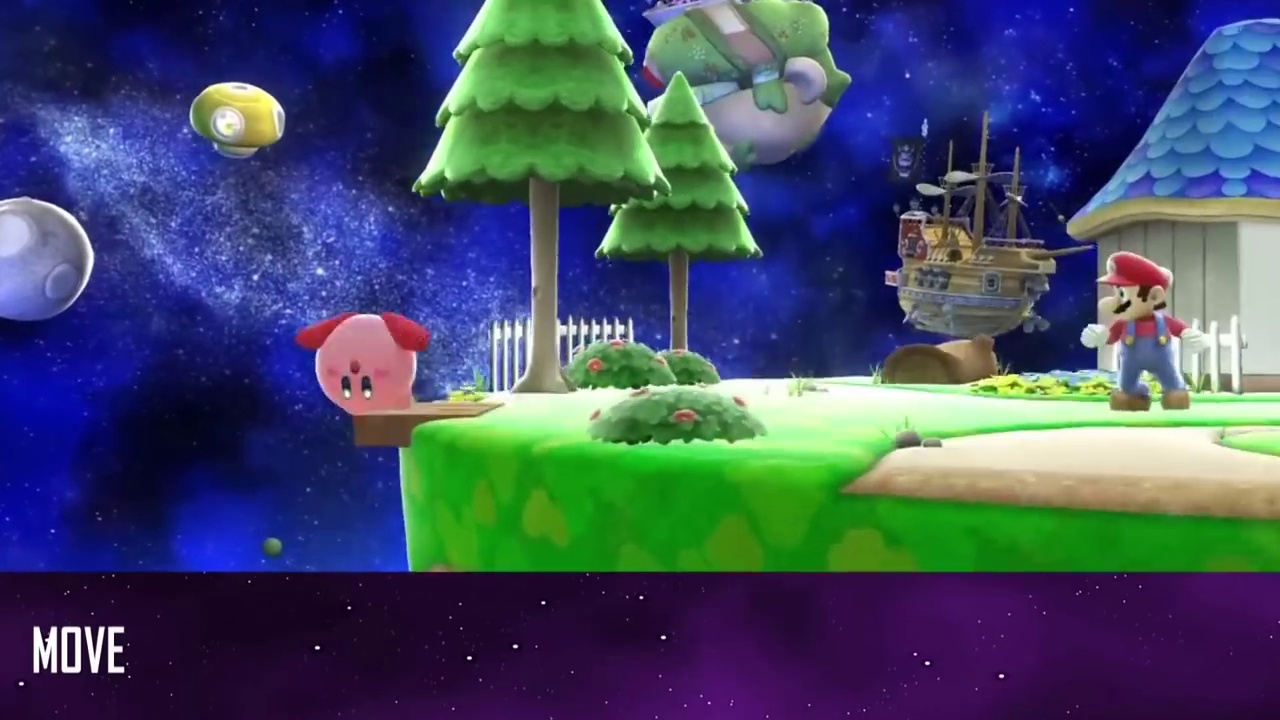Mario: (1080, 250, 1206, 412)
